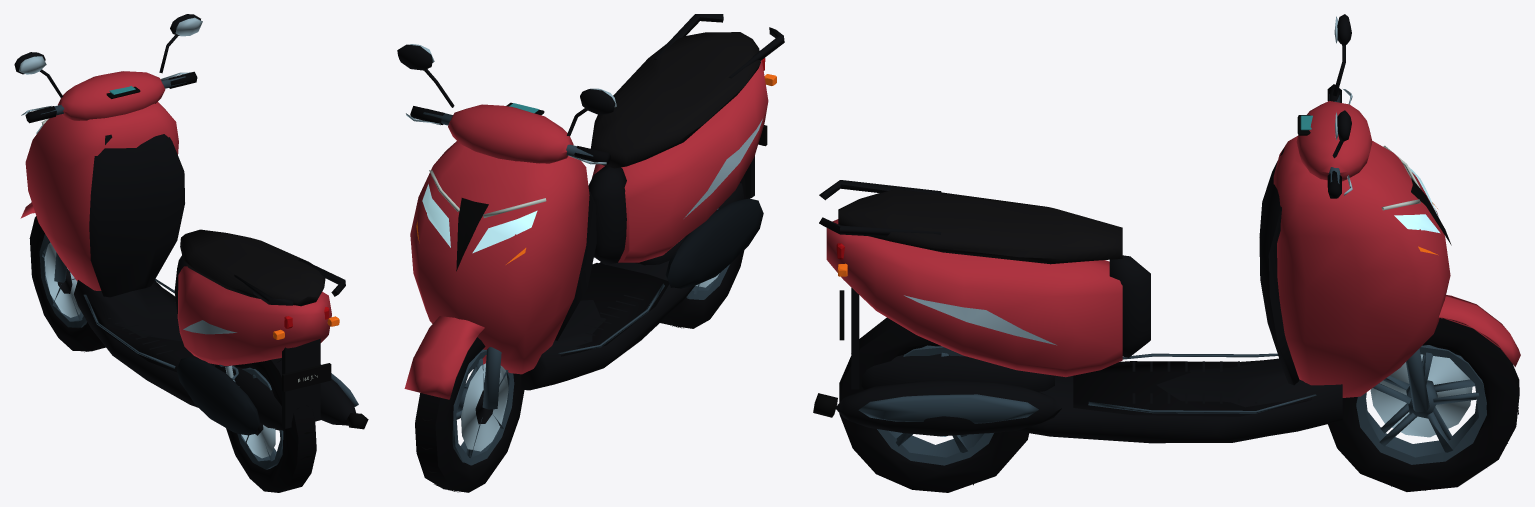
The model's file is sport_scooter_crimson_lod1.glb.
3 views of the same model, side by side, from view 1: azimuth 30°, elevation 25°; view 2: azimuth 150°, elevation 25°; view 3: azimuth 270°, elevation 25° (orthographic). The views are drawn at different scales.
Parts seen in each view (by area): view 1: Body_Mesh, Steering_Pivot_Mesh, Wheel_Rear_Mesh, Wheel_Front_Mesh; view 2: Body_Mesh, Steering_Pivot_Mesh, Wheel_Front_Mesh, Wheel_Rear_Mesh, Headlights_Mesh; view 3: Body_Mesh, Wheel_Front_Mesh, Wheel_Rear_Mesh, Steering_Pivot_Mesh, Headlights_Mesh.
Boxes of the visible parts, x1=… form: Body_Mesh: x1=25, y1=102, x2=368, y2=435; Steering_Pivot_Mesh: x1=14, y1=14, x2=202, y2=282; Wheel_Rear_Mesh: x1=226, y1=358, x2=316, y2=492; Wheel_Front_Mesh: x1=29, y1=216, x2=105, y2=352; Body_Mesh: x1=410, y1=14, x2=784, y2=390; Steering_Pivot_Mesh: x1=397, y1=44, x2=616, y2=409; Wheel_Front_Mesh: x1=415, y1=337, x2=524, y2=492; Wheel_Rear_Mesh: x1=660, y1=176, x2=750, y2=328; Headlights_Mesh: x1=422, y1=170, x2=546, y2=253; Body_Mesh: x1=813, y1=136, x2=1451, y2=443; Wheel_Front_Mesh: x1=1328, y1=318, x2=1519, y2=491; Wheel_Rear_Mesh: x1=839, y1=317, x2=1028, y2=492; Steering_Pivot_Mesh: x1=1296, y1=14, x2=1520, y2=412; Headlights_Mesh: x1=1381, y1=145, x2=1440, y2=233.
Size of the model in its own units: 0.7179 by 1.23 by 1.87.
Materials: 2 (1 with a texture image).
